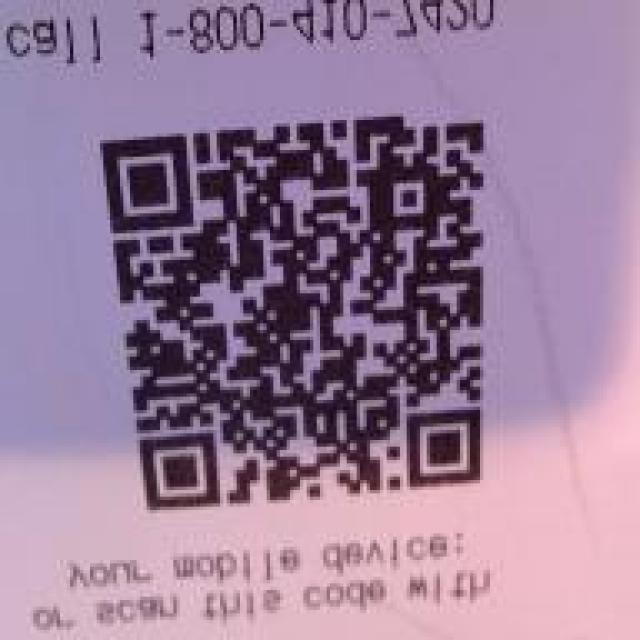QR_CODE: (87, 98, 508, 537)
